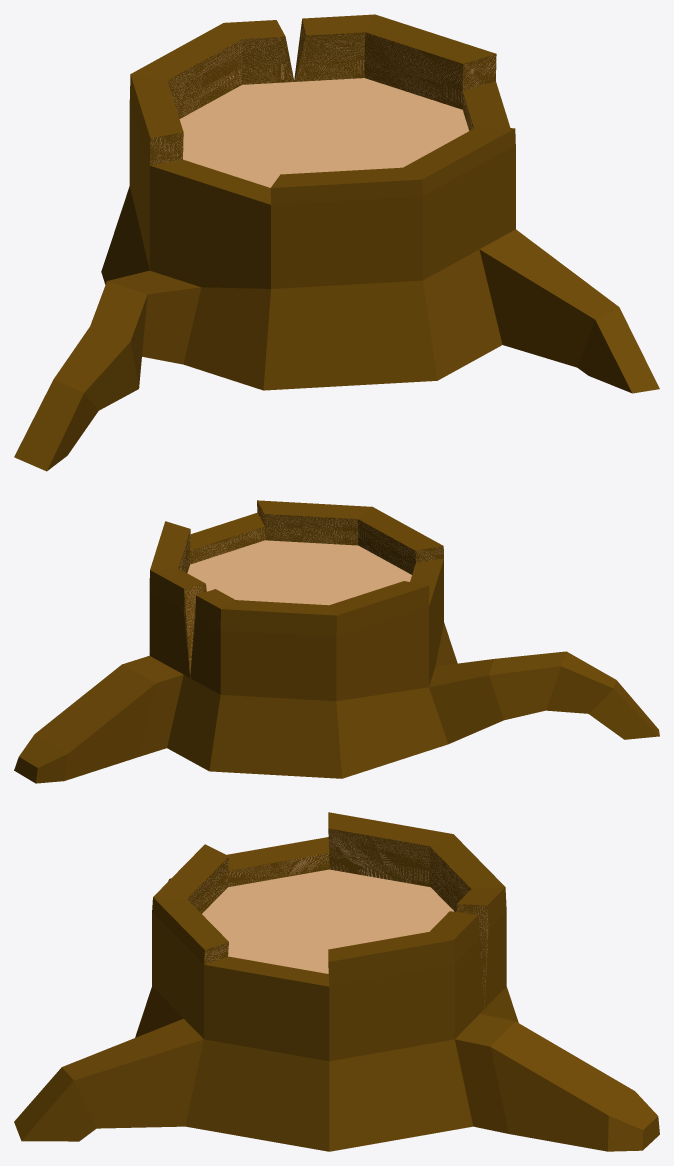
The model's file is Stump.fbx.
The picture shows the model from 3 angles, top to bottom: view 1: azimuth 30°, elevation 25°; view 2: azimuth 150°, elevation 25°; view 3: azimuth 270°, elevation 25°; orthographic projection. The views are drawn at different scales.
Parts seen in each view (by area): view 1: Stump 1; view 2: Stump 1; view 3: Stump 1.
Boxes of the visible parts, x1=… form: Stump 1: x1=14, y1=14, x2=659, y2=471; Stump 1: x1=14, y1=500, x2=659, y2=783; Stump 1: x1=14, y1=812, x2=659, y2=1151.
Size of the model in its own units: 119 by 41.22 by 127.
